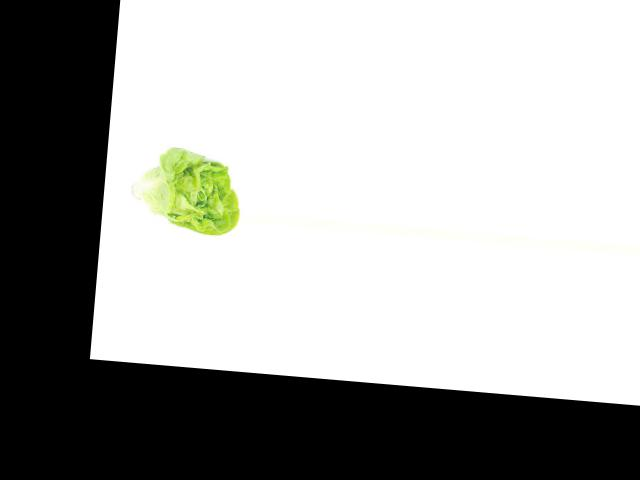lettuce: (124, 137, 245, 240)
